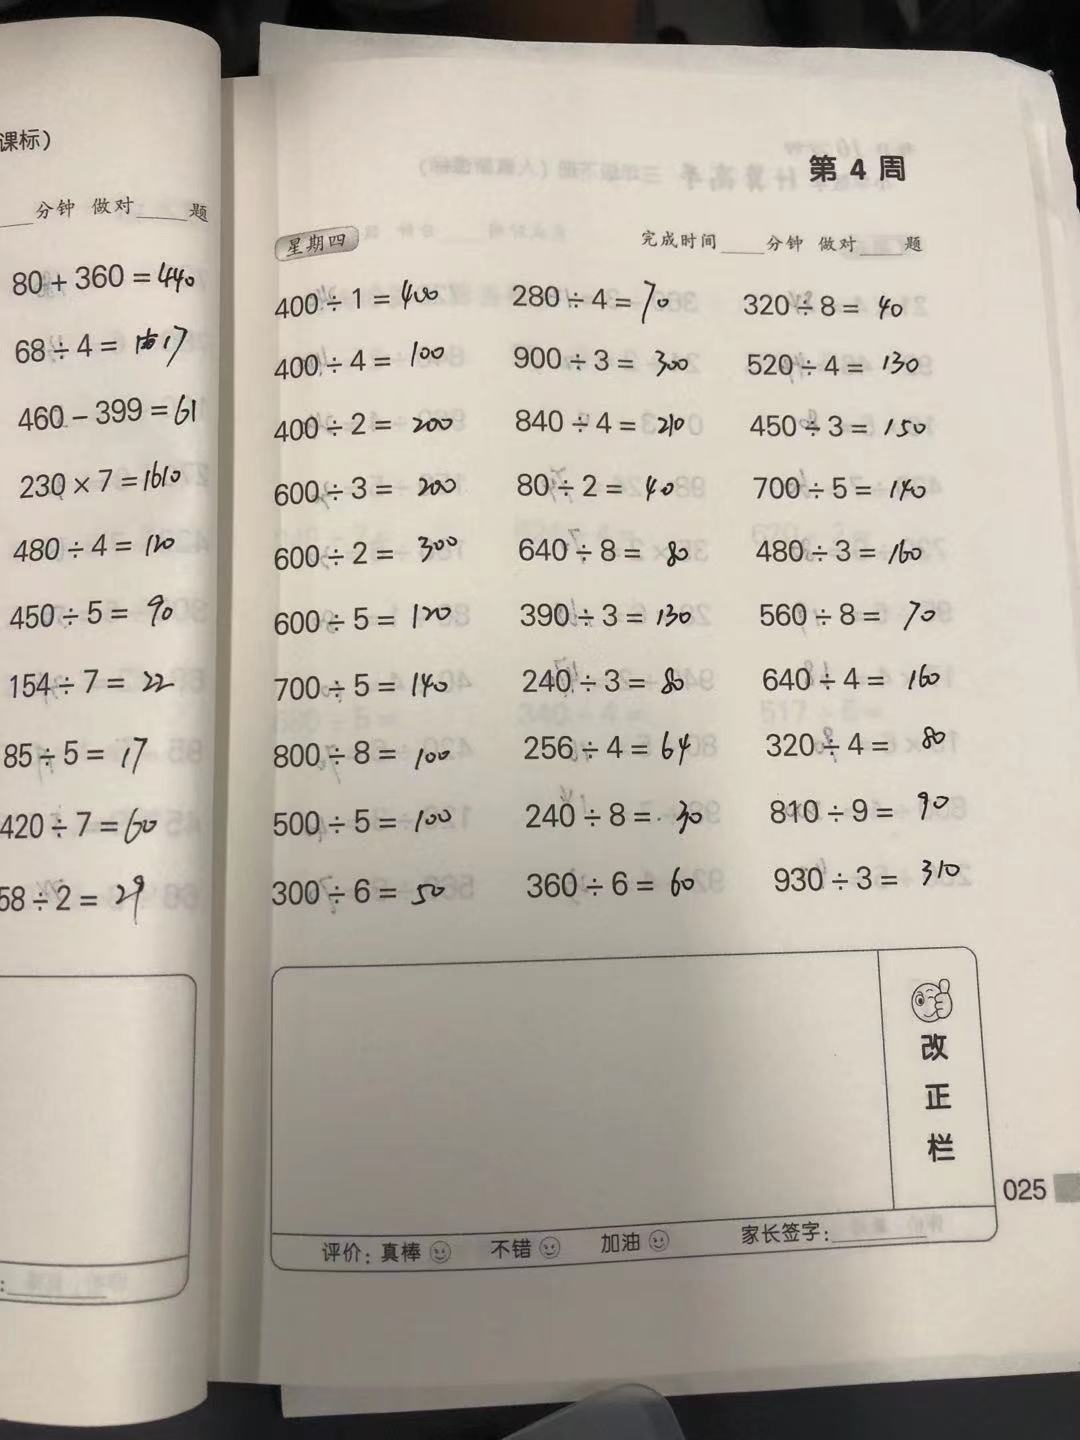equation: (248, 595, 490, 644), (750, 783, 994, 830), (261, 867, 476, 920), (496, 392, 710, 444), (751, 858, 979, 907), (254, 664, 486, 712), (253, 471, 481, 516), (753, 721, 974, 768), (496, 276, 702, 324), (514, 590, 719, 638), (262, 535, 486, 579), (521, 795, 736, 839), (261, 801, 486, 842), (262, 342, 471, 387), (256, 736, 486, 776), (754, 468, 947, 515), (748, 598, 953, 641), (511, 536, 712, 579), (264, 408, 471, 450), (736, 532, 937, 575), (262, 279, 465, 321), (505, 341, 707, 382), (748, 664, 965, 701), (741, 407, 936, 447), (736, 347, 936, 384), (522, 865, 711, 904), (516, 667, 710, 704), (505, 467, 701, 503), (736, 288, 913, 324), (516, 732, 710, 764)
